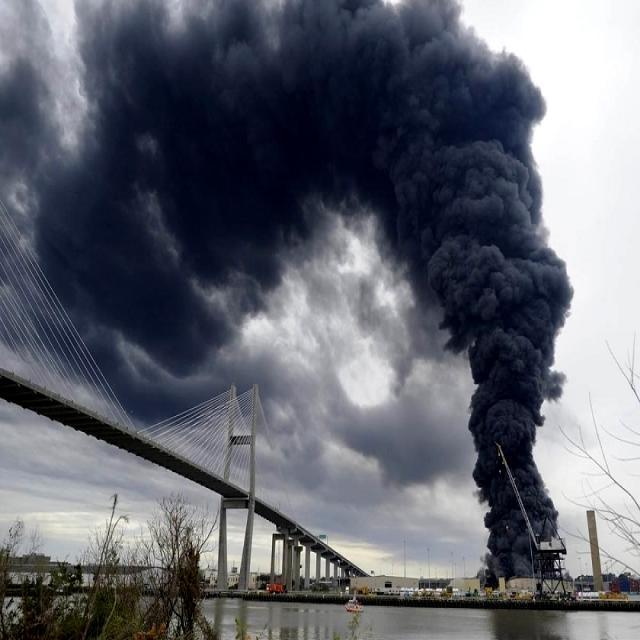Smoke: (0, 0, 559, 337), (414, 83, 566, 558)
